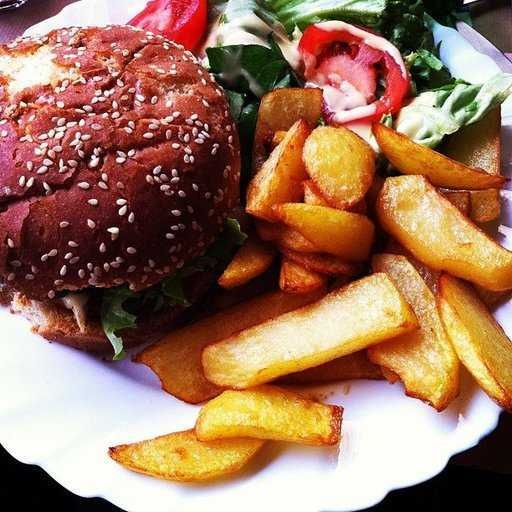hamburger: (1, 19, 222, 337)
